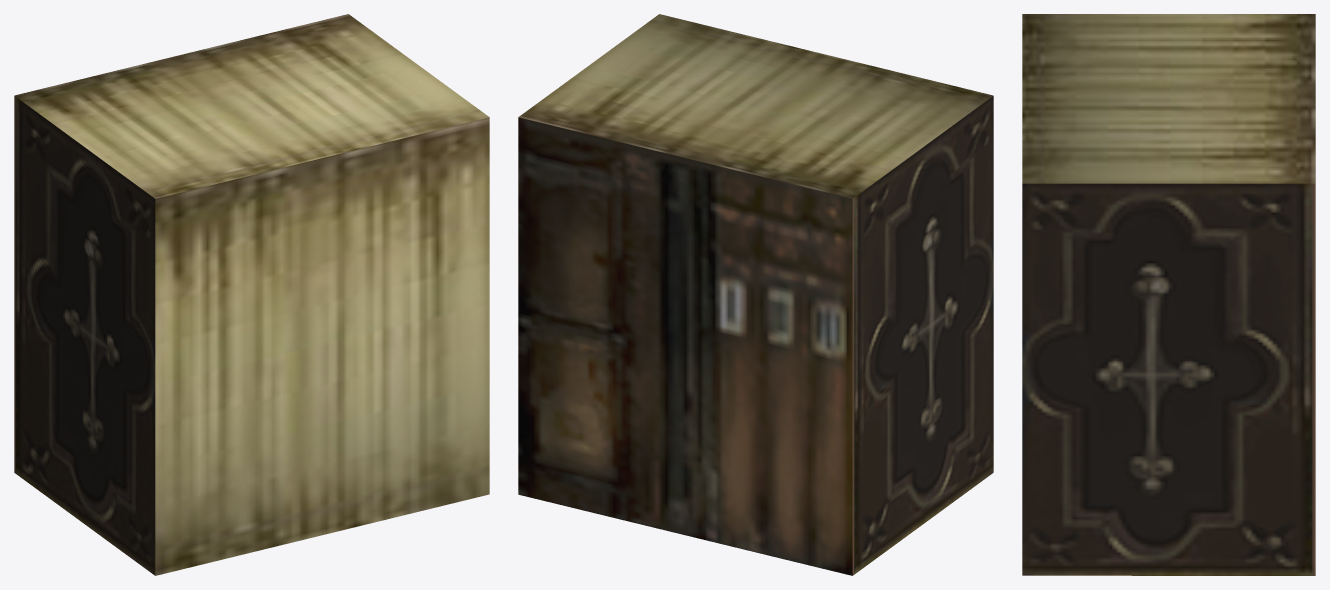
File: book_02.FBX
3 views of the same model, side by side, from view 1: azimuth 30°, elevation 25°; view 2: azimuth 150°, elevation 25°; view 3: azimuth 270°, elevation 25° (orthographic). The views are drawn at different scales.
Visible parts, largest first — view 1: book_02; view 2: book_02; view 3: book_02.
Part boxes in pixels (x1,y1,x2,y2): book_02: (14, 14, 489, 575); book_02: (518, 14, 993, 575); book_02: (1022, 14, 1315, 575).
Bounding box in the file's own units: 0.378 × 0.4076 × 0.2764.
